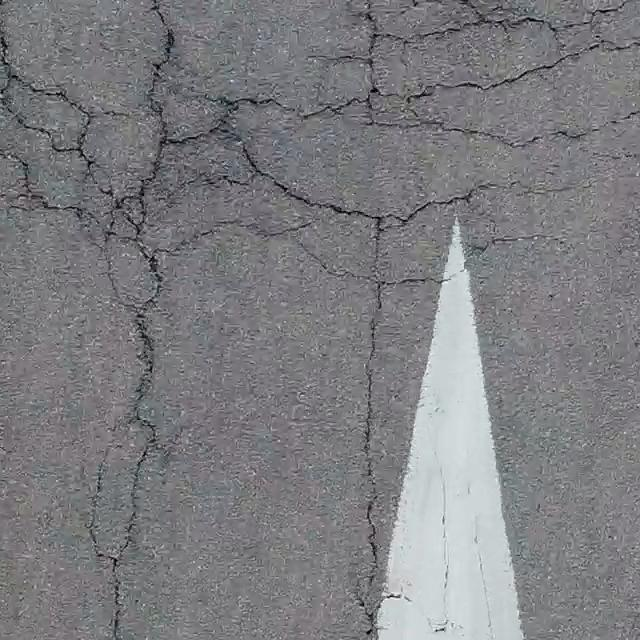GRIETA: (110, 318, 159, 639), (354, 292, 383, 639), (87, 418, 133, 559), (149, 0, 174, 103), (0, 24, 9, 73)
PIEL DE COCODRILO: (0, 0, 639, 319)
